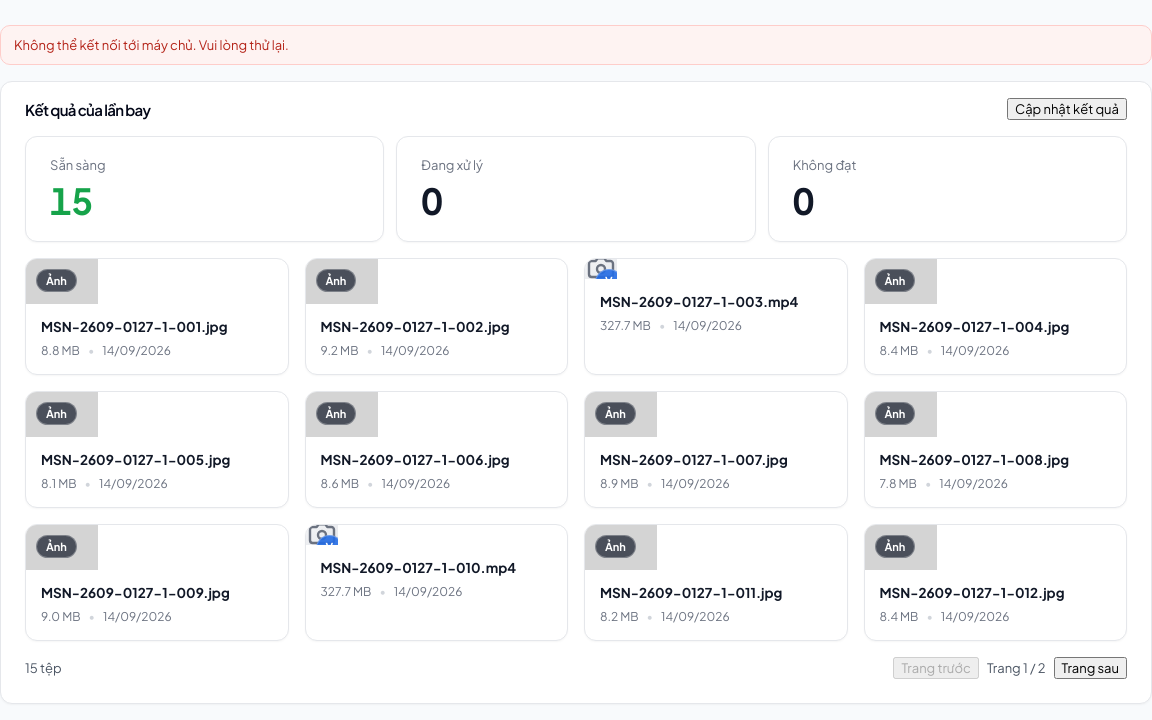
Test: MissionHistoryDetailPage › shows the media counts and the first page of files, 12 per page
The width and height of the screenshot is (1152, 720).
(page scrolled)
Expected: the text "15" is shown, [50,178,93,223]
Click the button "Trang sau". click: [1090, 668]
box: [1054,657,1127,679]
(page scrolled)
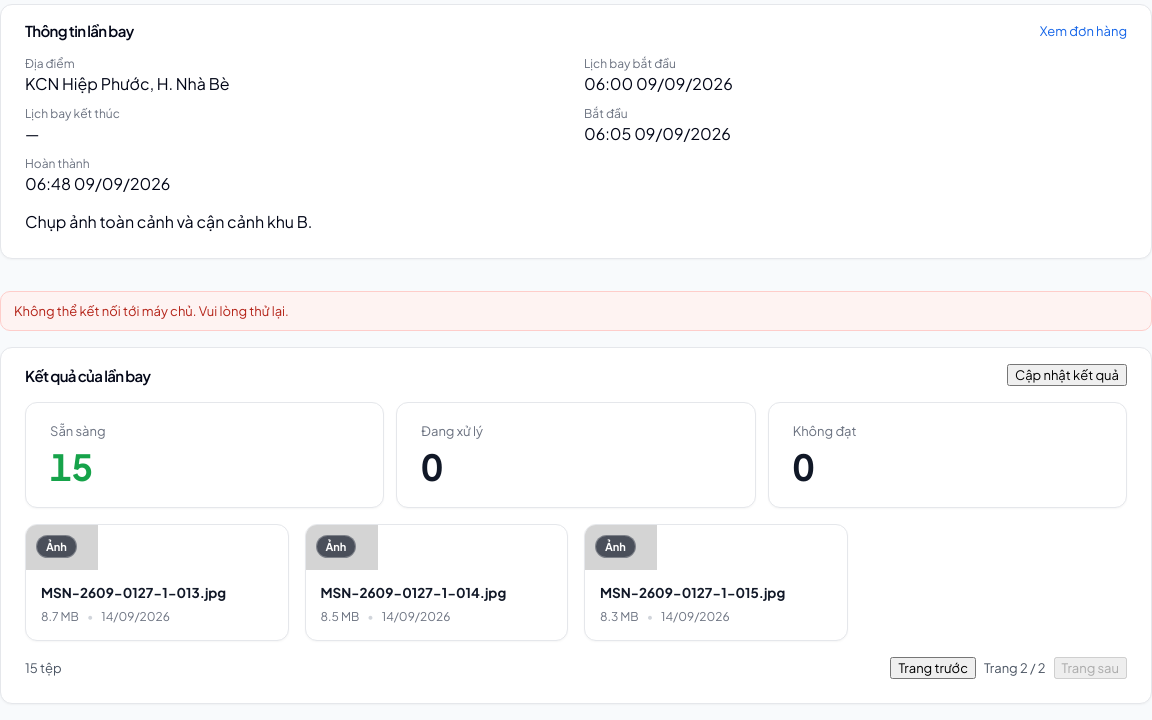
Expected: the number of buttons named "Xem " is 3, [25,524,288,641]; [304,524,568,641]; [584,524,848,641]
